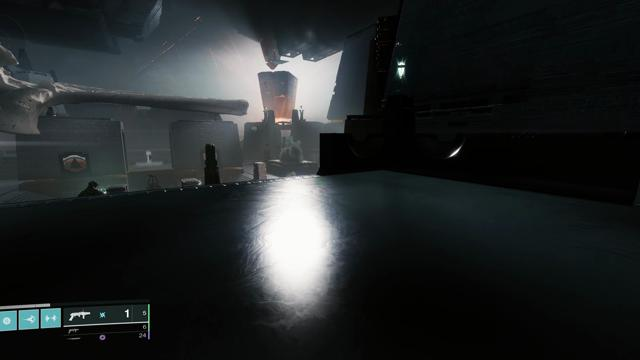commune: (252, 126, 257, 132)
pyramid: (63, 155, 86, 172)
